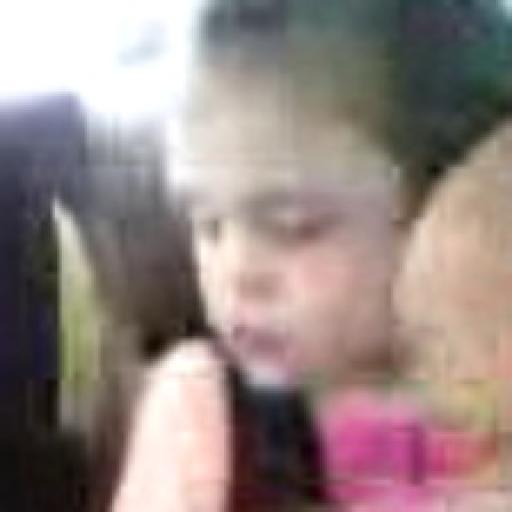Autism: (139, 8, 512, 476)
